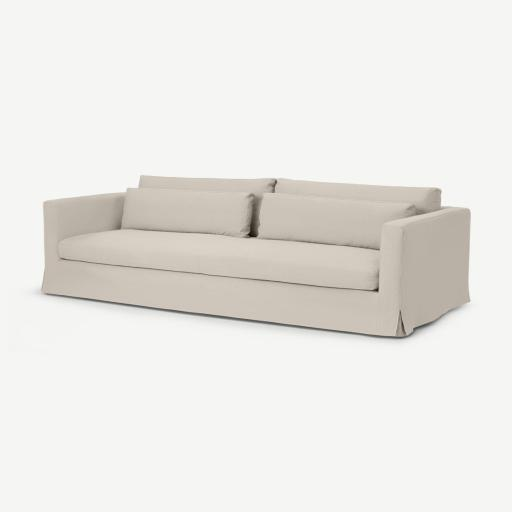back_cushion: (259, 193, 413, 249), (121, 188, 255, 238)
base: (44, 260, 376, 334), (470, 273, 473, 286)
left_arm: (375, 207, 470, 335)
right_arm: (42, 193, 125, 290)
seat_cushion: (58, 230, 379, 290)
two-seater: (0, 0, 511, 512)
